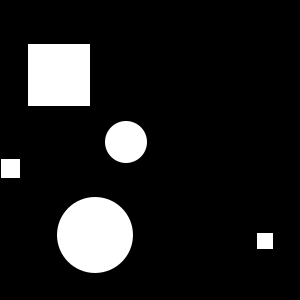circle: (28, 44, 90, 106), (1, 159, 20, 178), (257, 233, 273, 249)
rectangle: (57, 197, 133, 273), (105, 121, 147, 163)
